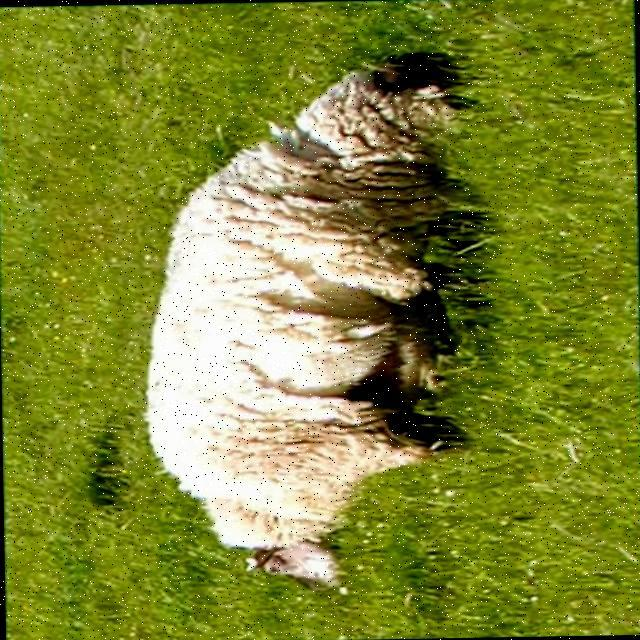sheep: (143, 62, 484, 581)
